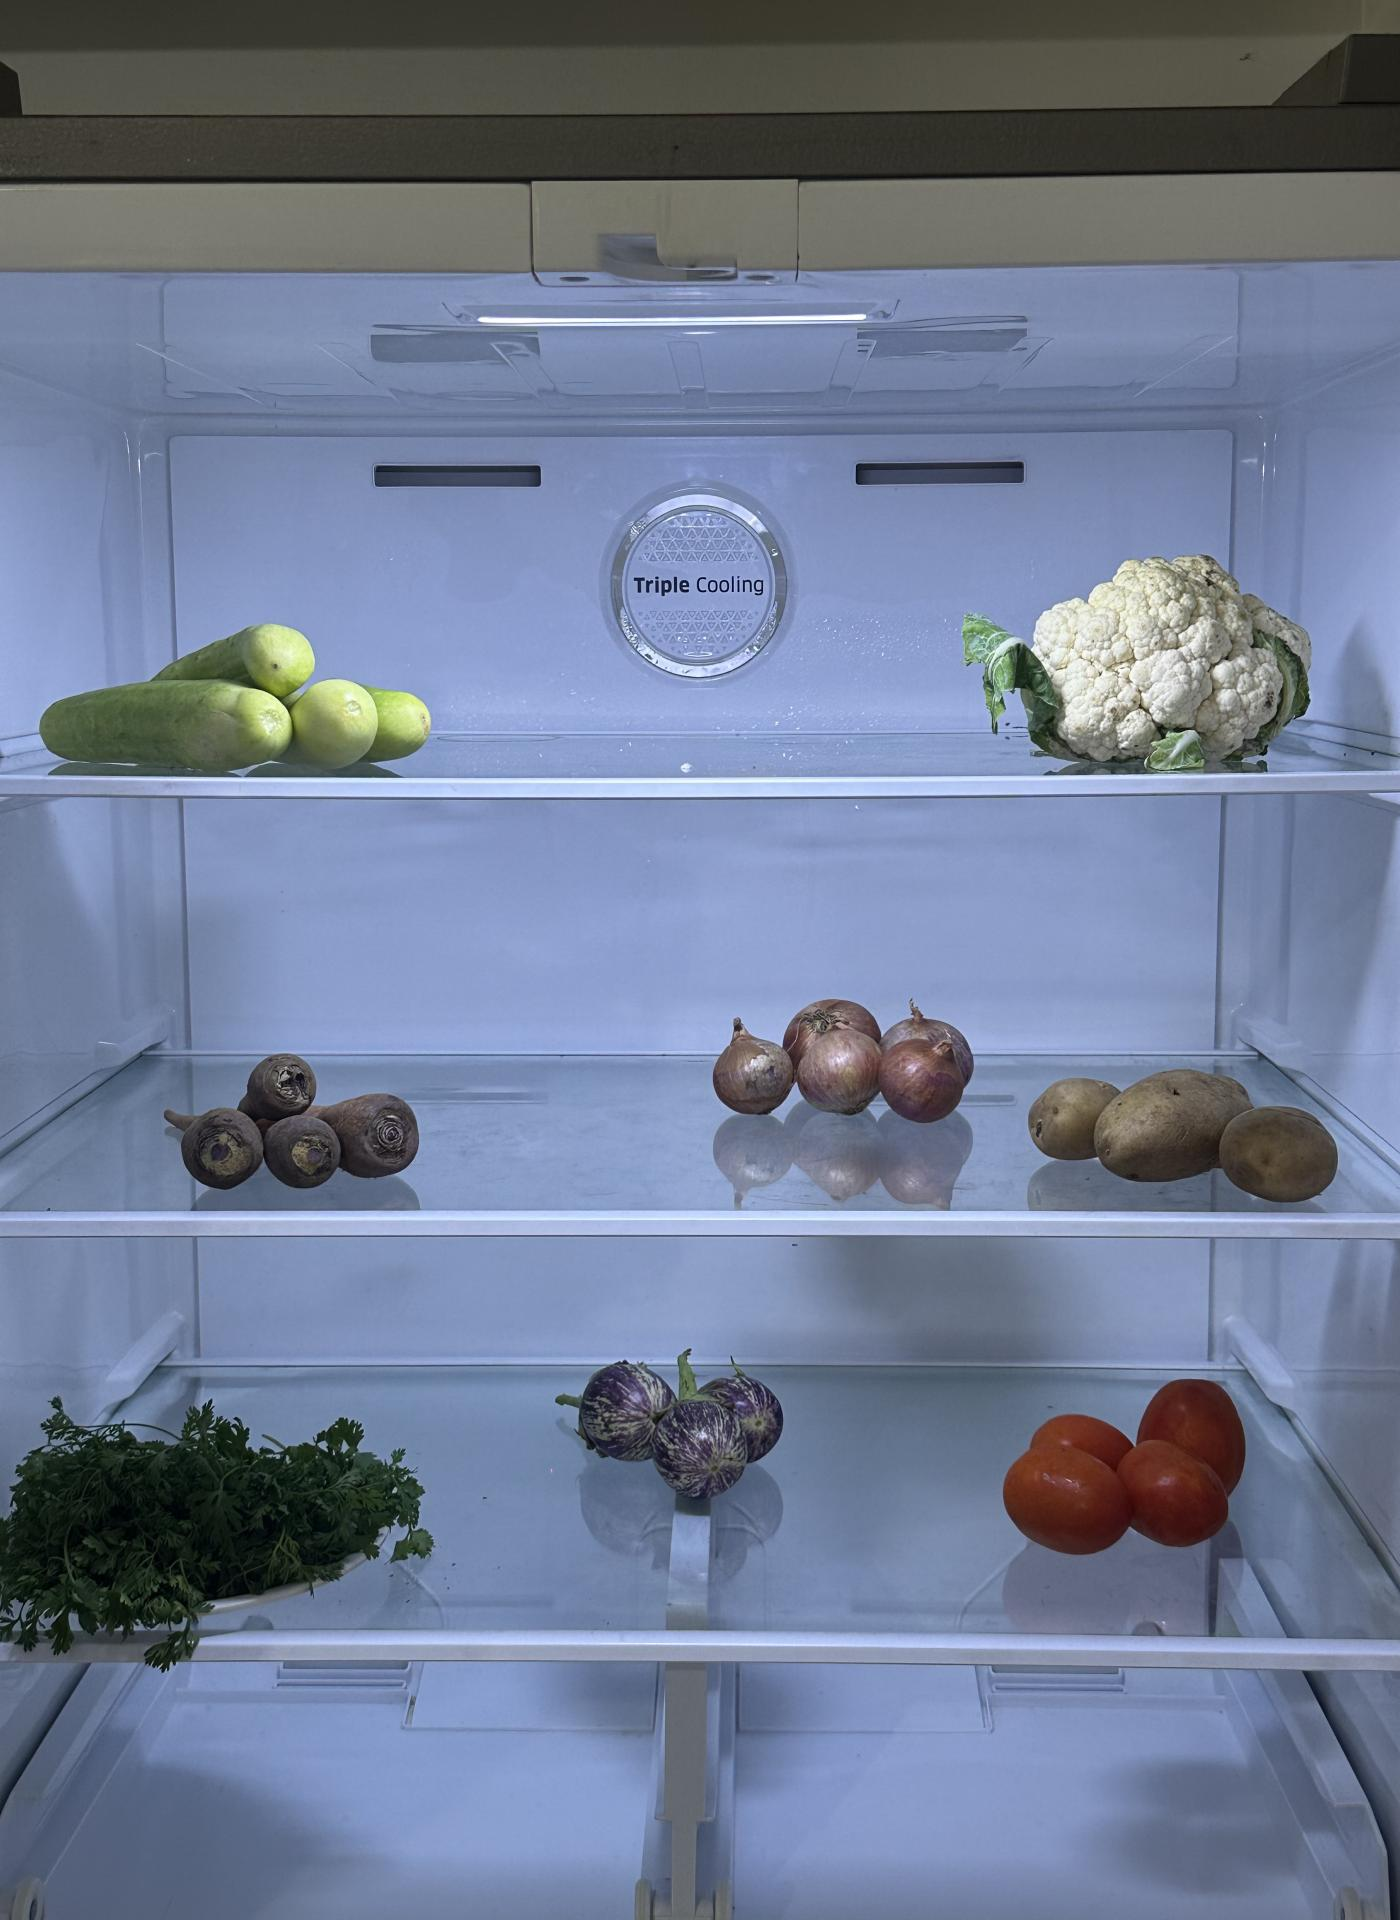brinjal: (576, 1349, 789, 1504)
carrots: (170, 1040, 429, 1190)
cauliflower: (1023, 547, 1322, 763)
coriander: (0, 1401, 420, 1631)
cucumber: (37, 626, 435, 803)
onion: (713, 993, 983, 1124)
potato: (1027, 1054, 1340, 1201)
tomato: (997, 1376, 1249, 1558)
